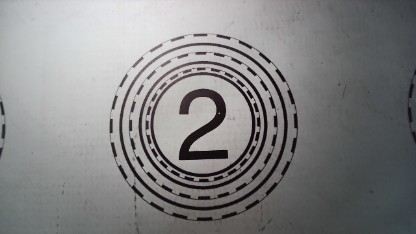2r: (107, 35, 299, 222)
